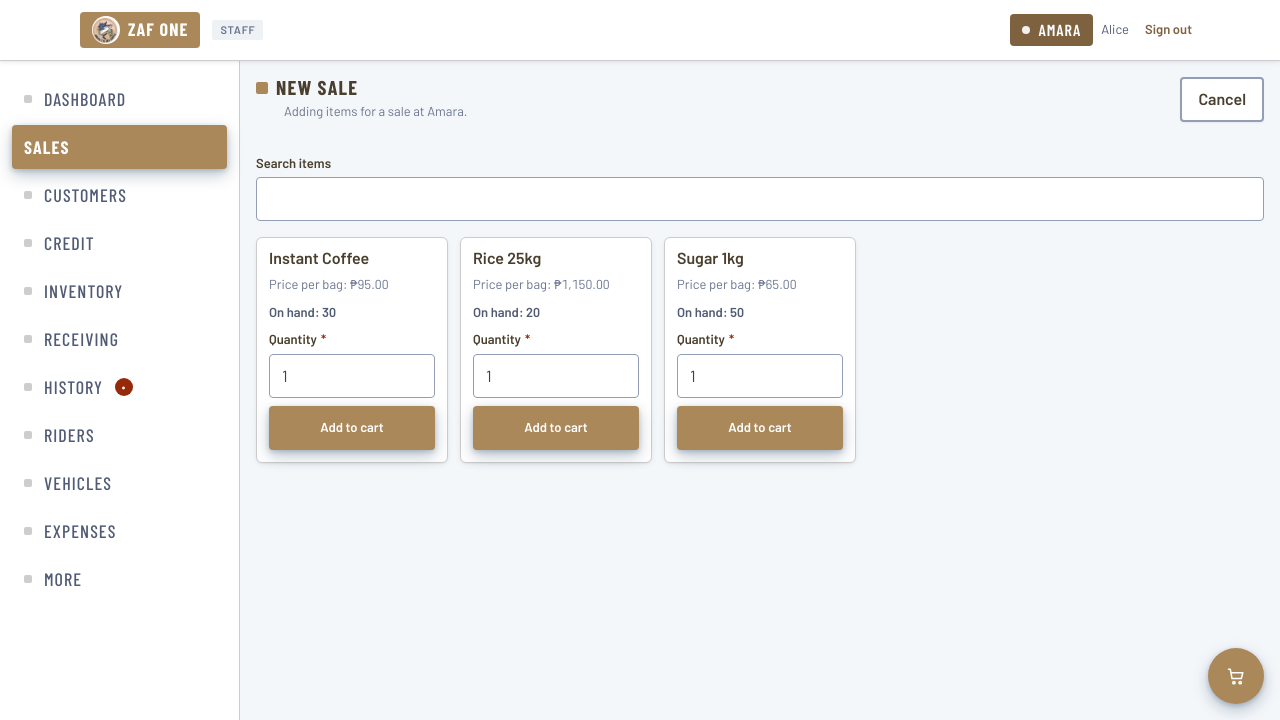
Test: NewSalePage › merges quantities when the same product is added again
Replace the text in the number field labelled "Quantity" below "On hand: 20" with "2" at (556, 376), box [473, 354, 639, 398]
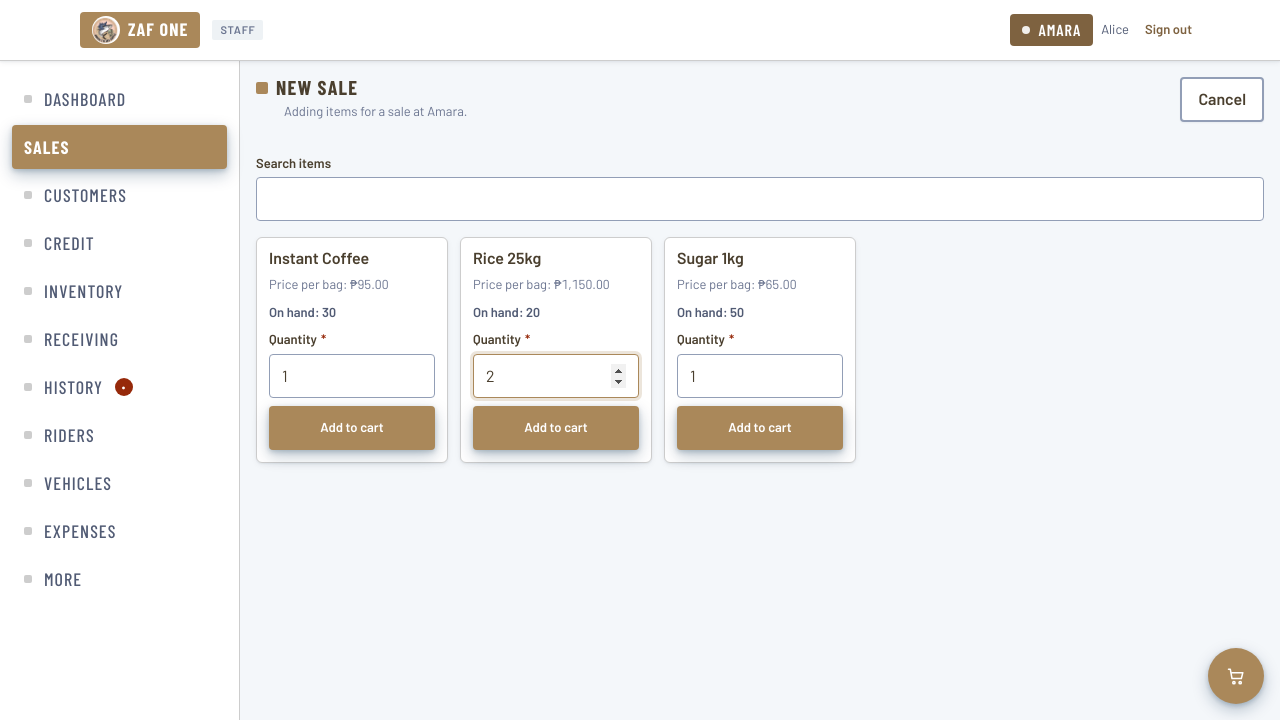
Click the button "Add to cart" below "On hand: 20" at (556, 428), box [473, 406, 639, 450]
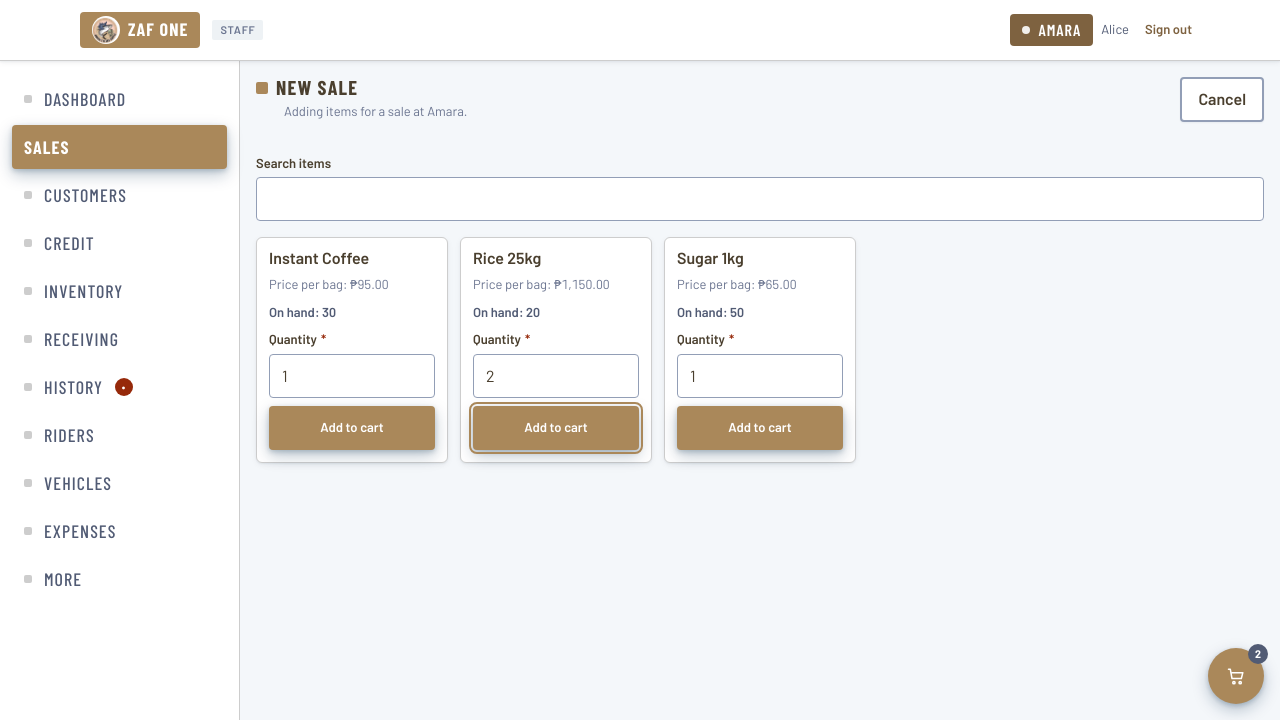
Expected: the text "2" is shown, [1248, 644, 1268, 664]
